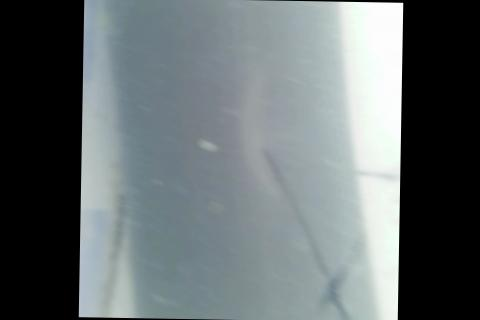keretakan: (248, 144, 377, 320)
